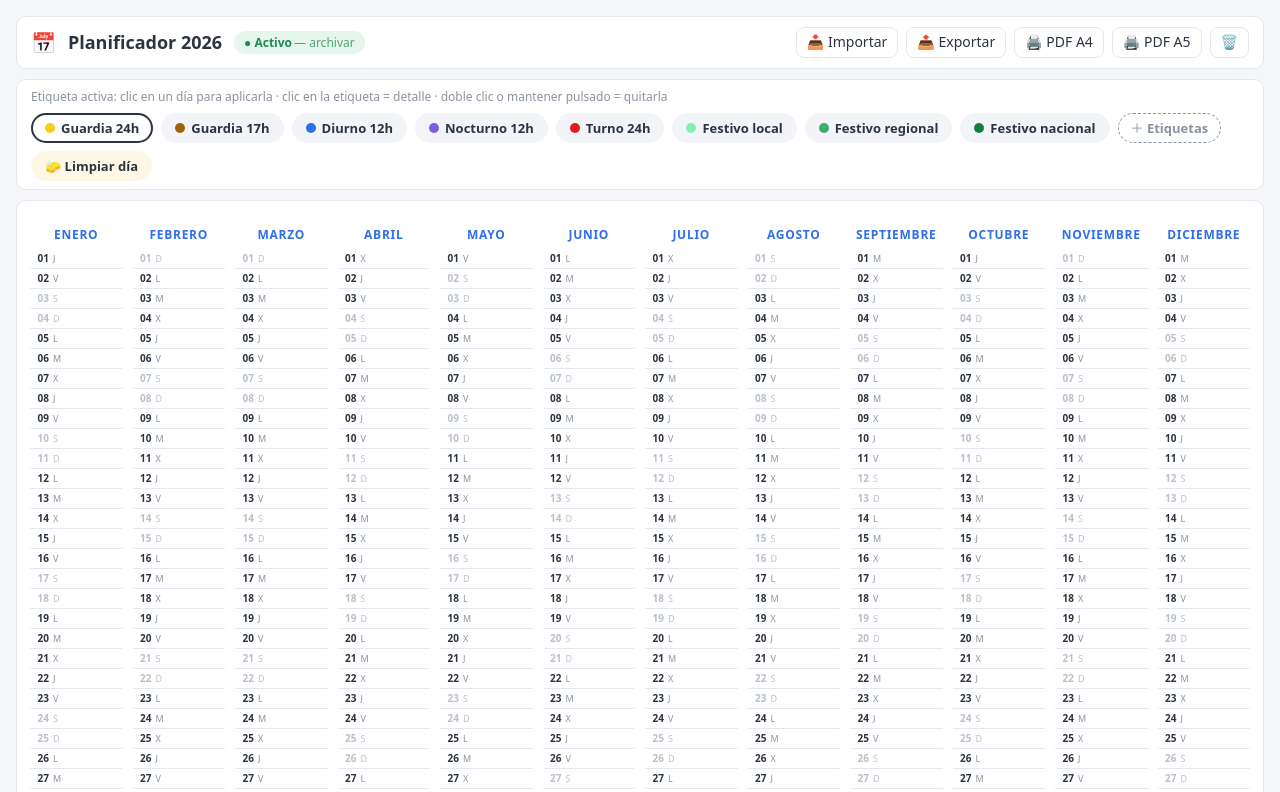
Test: tag detail modal › opens with one click and shows every detail of the application
Click the 1st text with class "day__number".
click(43, 258)  # box [38,251,49,265]
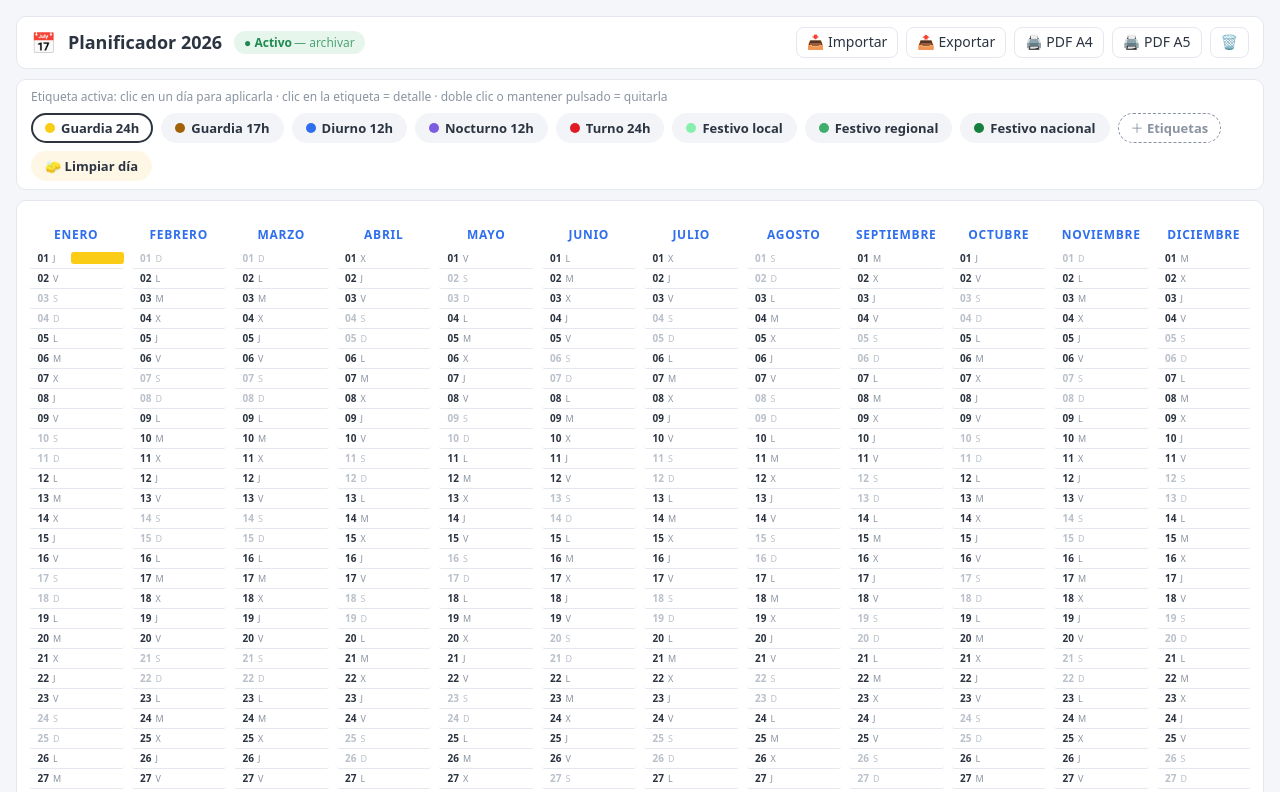
Click the button with class "tag-chip".
click(97, 258)  # box [71,252,124,264]
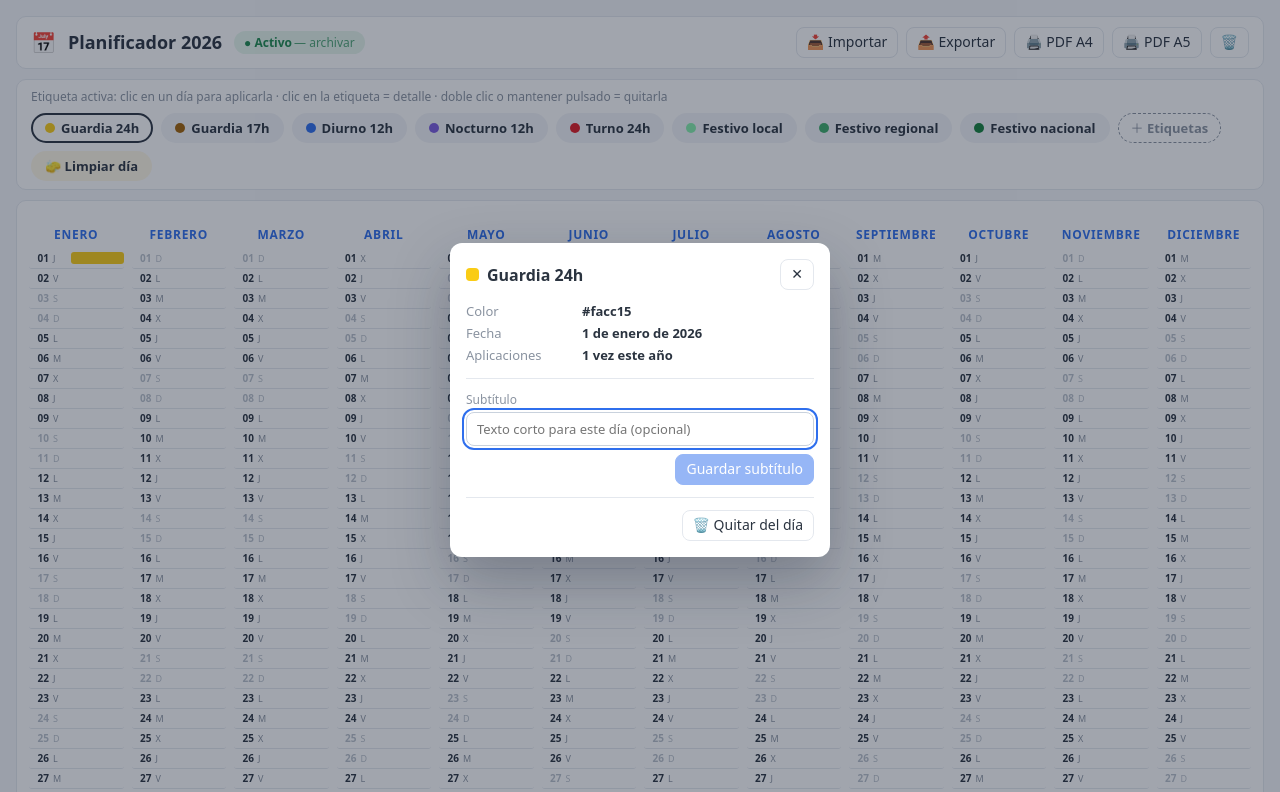
Expected: the dialog with class "modal--tag-detail" shows "Guardia 24h", [487,264,583,286]
Expected: the dialog with class "modal--tag-detail" shows "1 vez este año", [450,243,830,557]
Expected: the field labelled "Subtítulo" is empty, [466,412,814,446]
